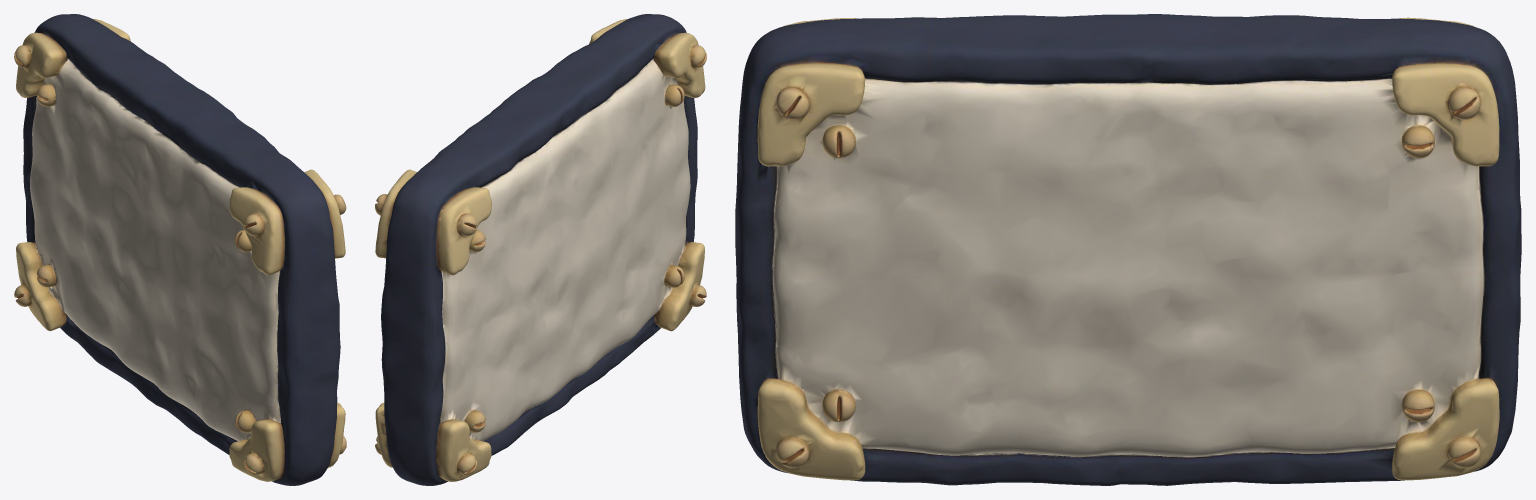
The model's file is KR_사물_s1_sign_hr_room_old.glb.
3 views of the same model, side by side, from view 1: azimuth 30°, elevation 25°; view 2: azimuth 150°, elevation 25°; view 3: azimuth 270°, elevation 25° (orthographic). The views are drawn at different scales.
Parts seen in each view (by area): view 1: tripo_node_78aeec19-88ad-4d0c-a430-85ba4c6e8e6e; view 2: tripo_node_78aeec19-88ad-4d0c-a430-85ba4c6e8e6e; view 3: tripo_node_78aeec19-88ad-4d0c-a430-85ba4c6e8e6e.
Part boxes in pixels (bbox=[...]): tripo_node_78aeec19-88ad-4d0c-a430-85ba4c6e8e6e: bbox=[14, 14, 346, 485]; tripo_node_78aeec19-88ad-4d0c-a430-85ba4c6e8e6e: bbox=[375, 14, 706, 485]; tripo_node_78aeec19-88ad-4d0c-a430-85ba4c6e8e6e: bbox=[735, 14, 1521, 485].
Bounding box in the file's own units: 0.2123 × 0.6176 × 0.9999.
Materials: 1 (1 with a texture image).
